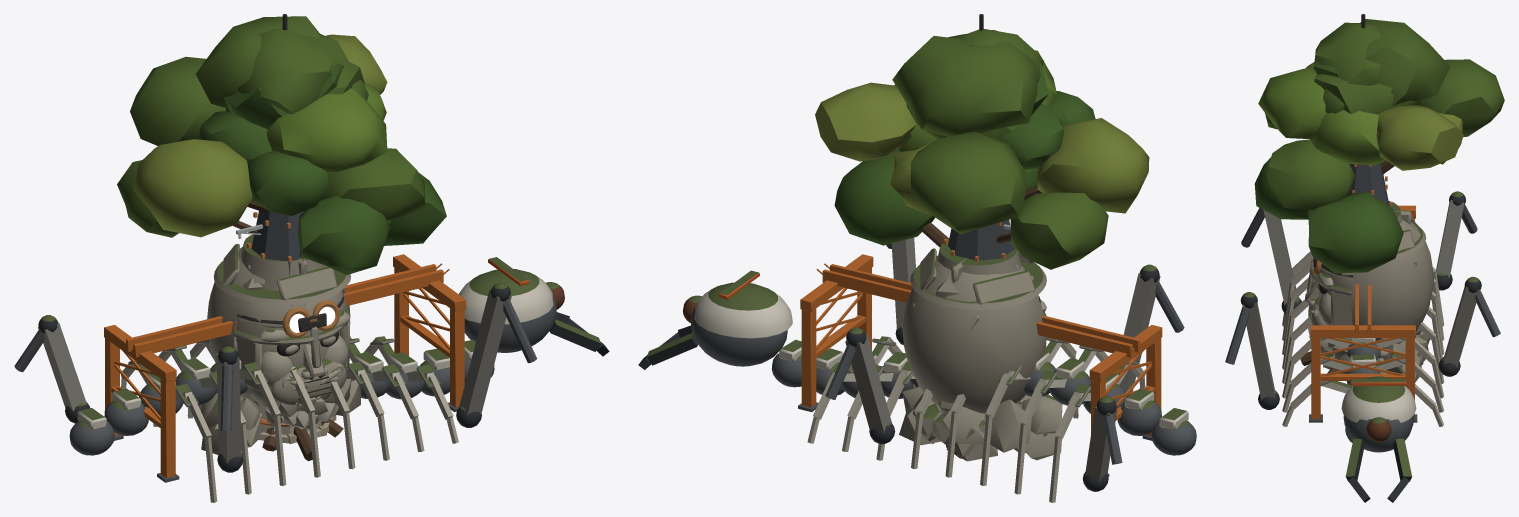
File: models.glb
3 views of the same model, side by side, from view 1: azimuth 30°, elevation 25°; view 2: azimuth 150°, elevation 25°; view 3: azimuth 270°, elevation 25° (orthographic). The views are drawn at different scales.
Parts seen in each view (by area): view 1: v_giant__Crown, l_queen__M, l_crane__M, f_seefahrer__Stone, f_waechter__Stone, f_schatten__Stone, l_spire__Roof, f_erfinder__Stone, v_giant__Trunk, f_erfinder__Goggles; view 2: v_giant__Crown, l_queen__M, f_schatten__Stone, l_crane__M, f_seefahrer__Stone, f_waechter__Stone, l_spire__Roof, v_giant__Trunk; view 3: v_giant__Crown, l_queen__M, f_schatten__Stone, l_crane__M, f_waechter__Stone, f_seefahrer__Stone, l_spire__Roof, f_erfinder__Stone.
Boxes of the visible parts, bbox=[...] form: v_giant__Crown: bbox=[117, 16, 446, 274]; l_queen__M: bbox=[14, 257, 609, 502]; l_crane__M: bbox=[104, 254, 465, 482]; f_seefahrer__Stone: bbox=[201, 234, 350, 454]; f_waechter__Stone: bbox=[198, 257, 361, 429]; f_schatten__Stone: bbox=[207, 247, 350, 405]; l_spire__Roof: bbox=[247, 211, 304, 275]; f_erfinder__Stone: bbox=[234, 277, 350, 407]; v_giant__Trunk: bbox=[233, 200, 343, 461]; f_erfinder__Goggles: bbox=[237, 292, 344, 338]; v_giant__Crown: bbox=[815, 29, 1149, 269]; l_queen__M: bbox=[638, 237, 1196, 502]; f_schatten__Stone: bbox=[899, 256, 1046, 452]; l_crane__M: bbox=[798, 254, 1162, 476]; f_seefahrer__Stone: bbox=[910, 239, 1061, 460]; f_waechter__Stone: bbox=[902, 257, 1062, 461]; l_spire__Roof: bbox=[943, 220, 1014, 261]; v_giant__Trunk: bbox=[899, 143, 1041, 458]; v_giant__Crown: bbox=[1254, 19, 1504, 273]; l_queen__M: bbox=[1225, 191, 1500, 502]; f_schatten__Stone: bbox=[1308, 219, 1433, 382]; l_crane__M: bbox=[1309, 205, 1417, 422]; f_waechter__Stone: bbox=[1306, 210, 1432, 373]; f_seefahrer__Stone: bbox=[1308, 201, 1426, 358]; l_spire__Roof: bbox=[1349, 162, 1392, 206]; f_erfinder__Stone: bbox=[1305, 223, 1420, 322].
Bounding box in the file's own units: 66.92 × 51.15 × 35.6.
